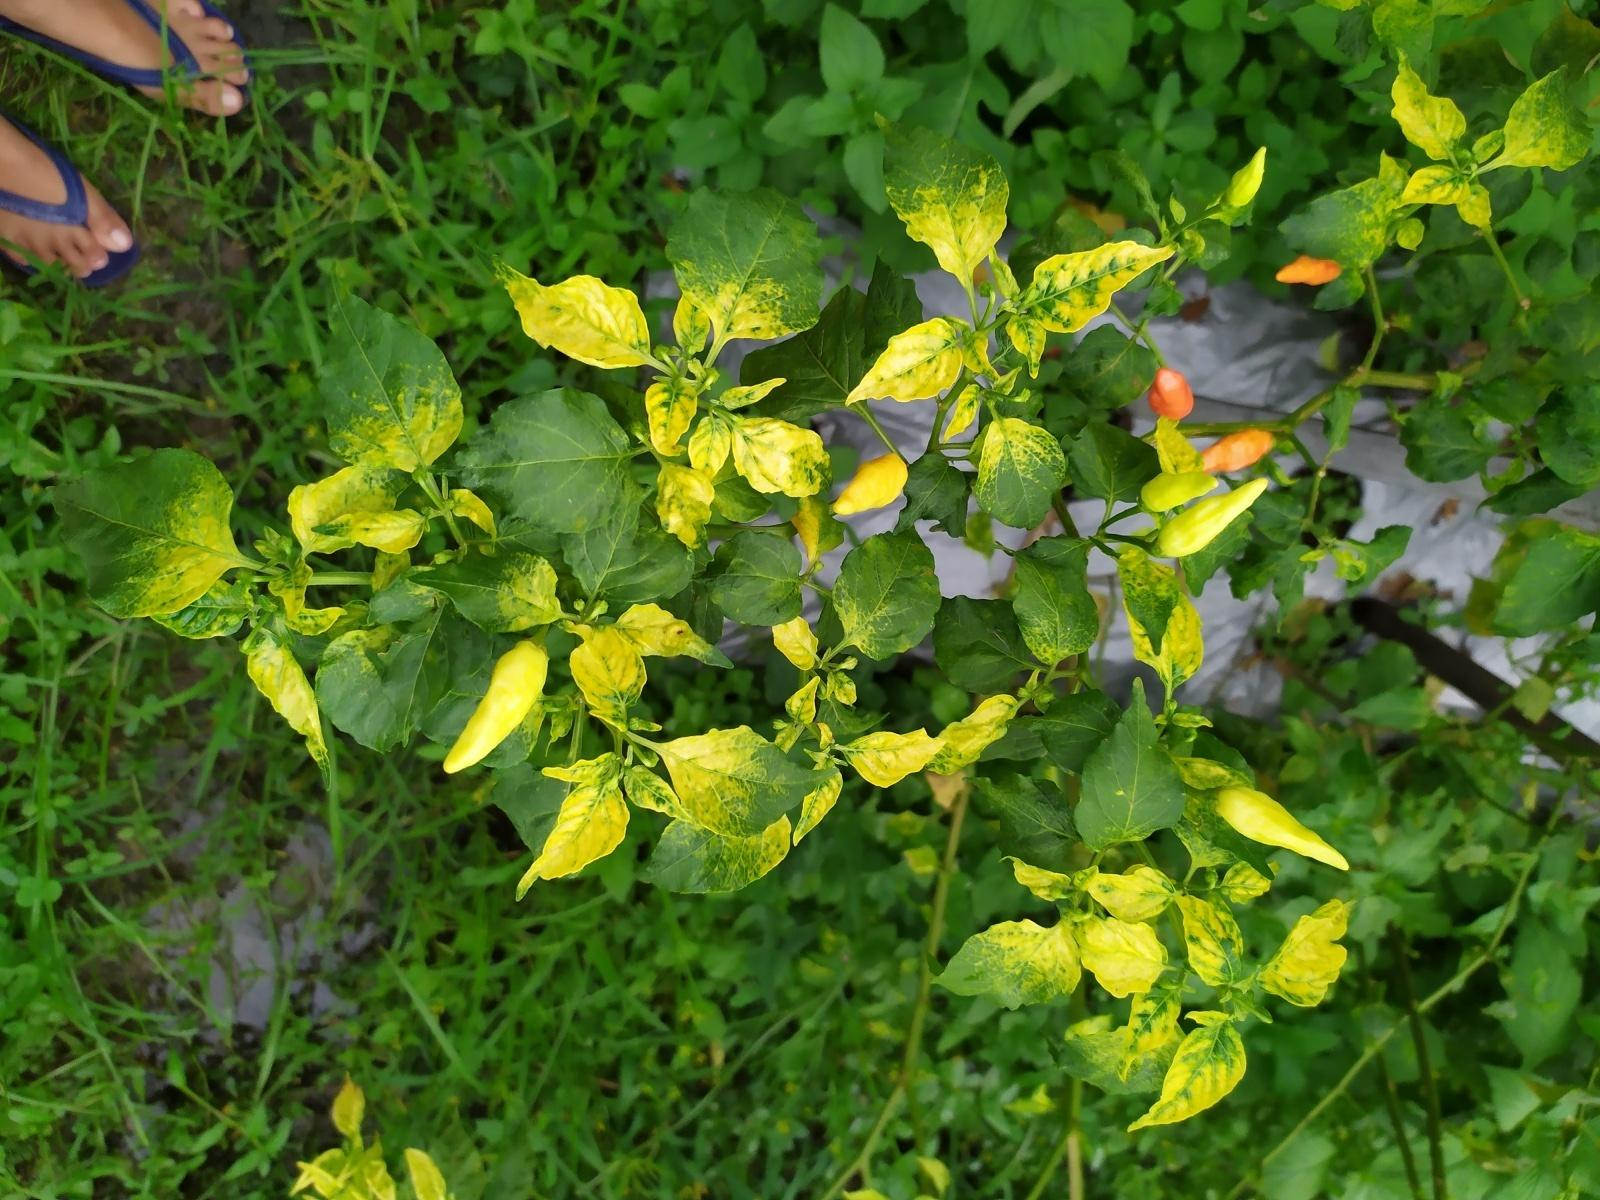cabai_normal: (443, 640, 549, 774), (1213, 787, 1349, 872), (1157, 476, 1269, 557), (833, 451, 910, 516), (1194, 429, 1275, 475), (1139, 471, 1220, 513), (1225, 145, 1267, 209), (1148, 369, 1194, 420), (1275, 255, 1343, 286)
